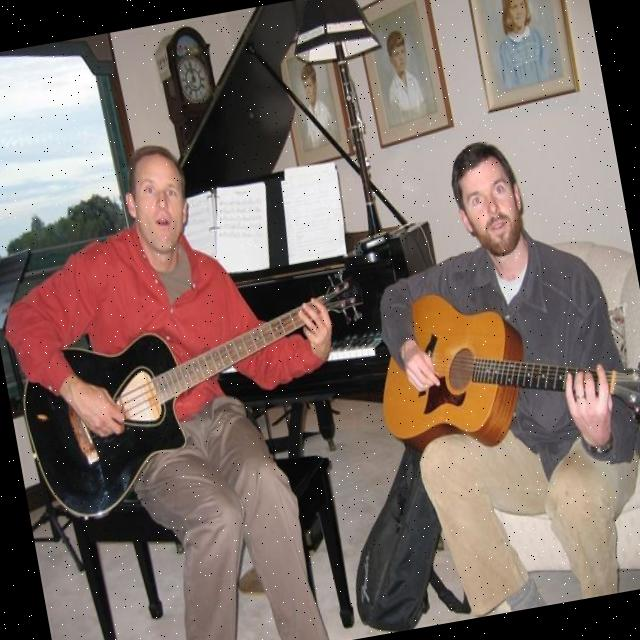guitar: (363, 257, 640, 478)
